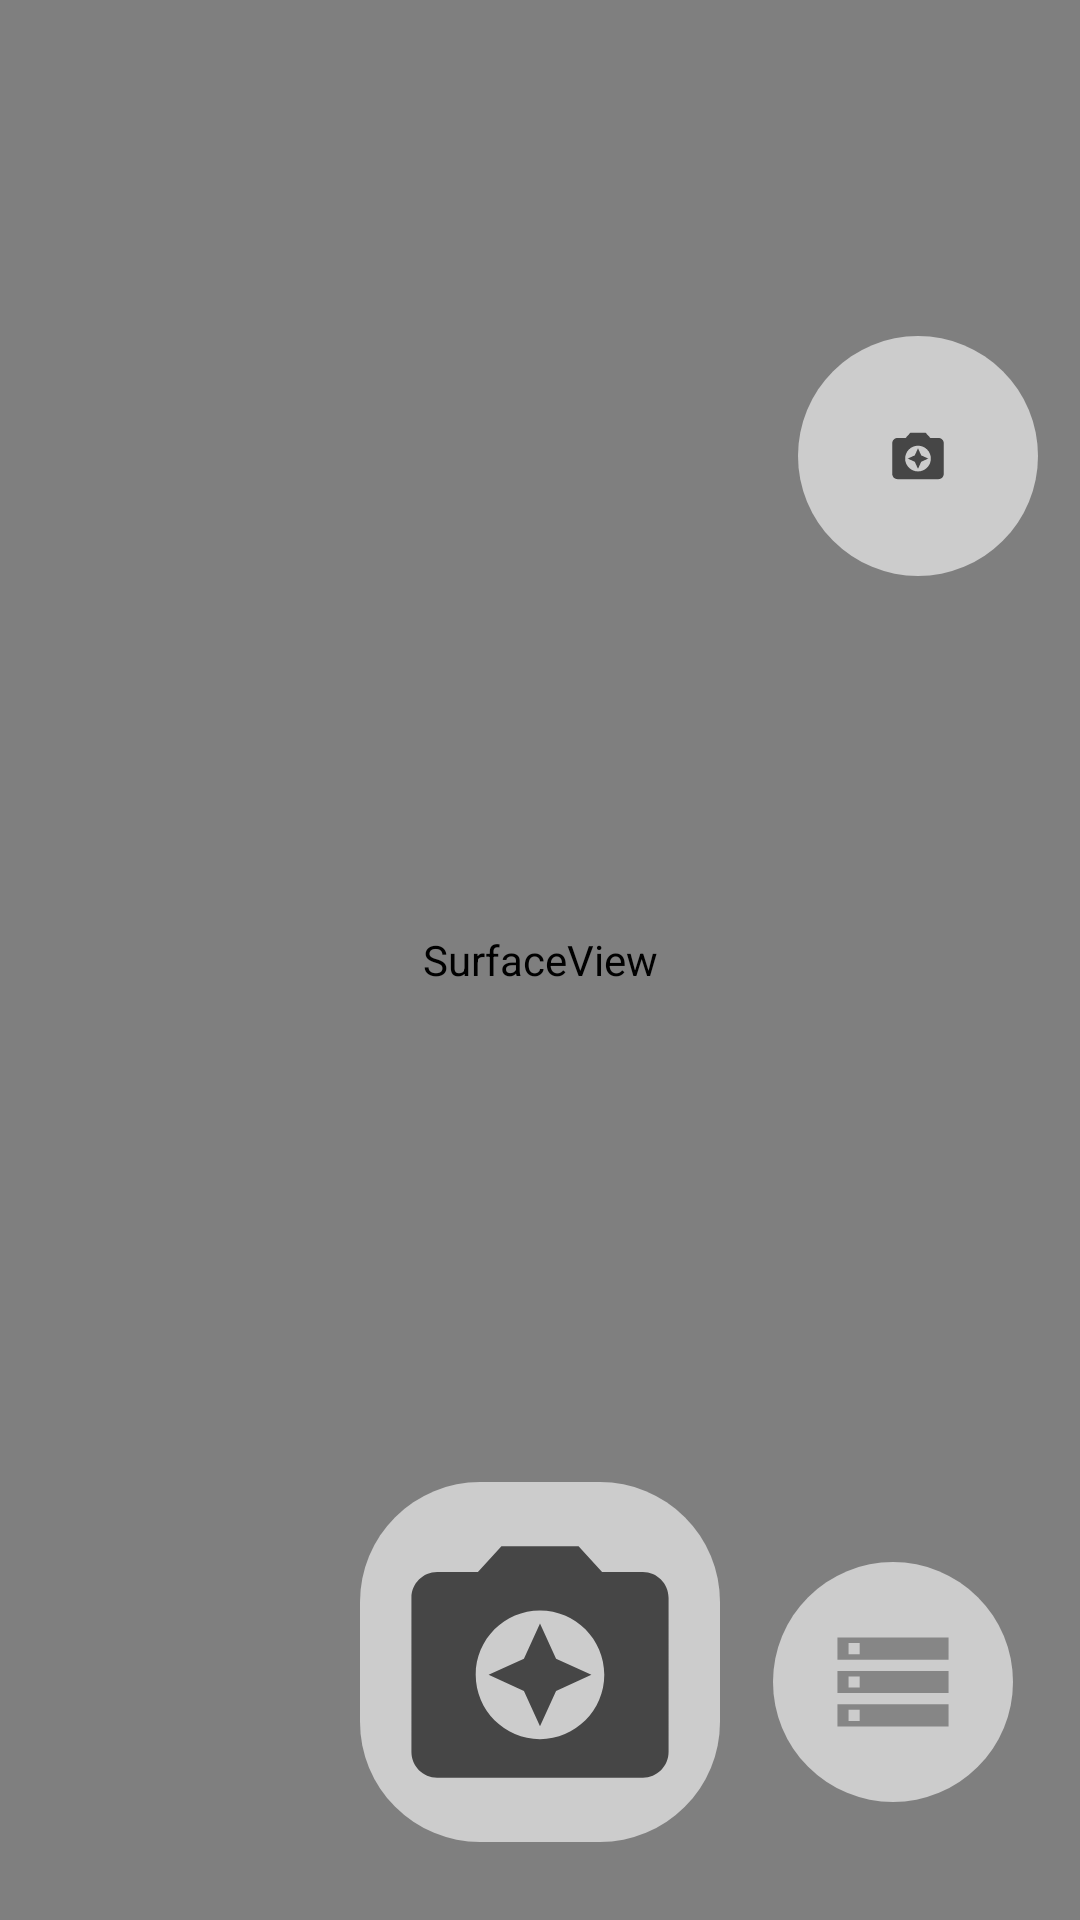

Named icons in this screenshot (1080*1920) and their centers, (x,y):
Storage: (893,1682)
